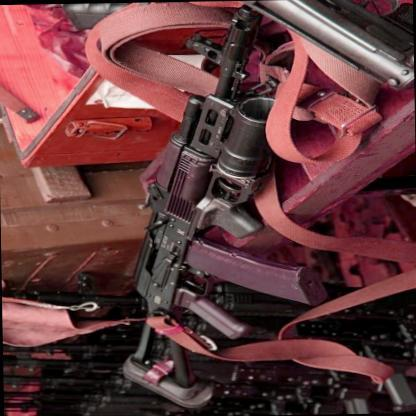rifle: (125, 21, 317, 394)
